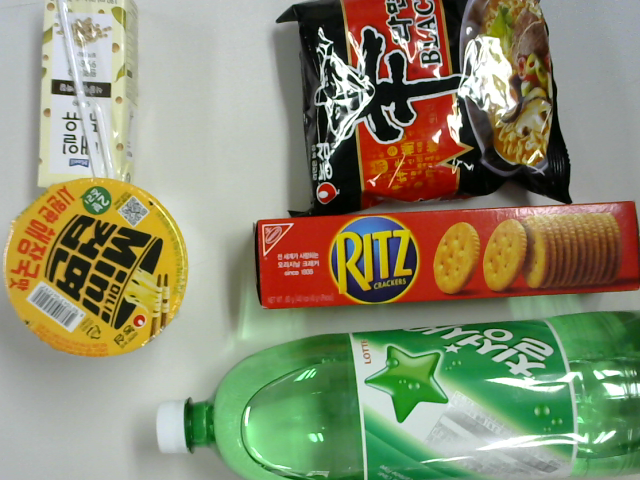99.89_Soymilk: (35, 4, 145, 192)
Chilseong_Cider_1.5L: (153, 312, 640, 477)
Hejangmini: (5, 180, 191, 356)
Ritz_Cracker: (251, 202, 640, 303)
Sinramen_Black: (275, 8, 575, 208)
